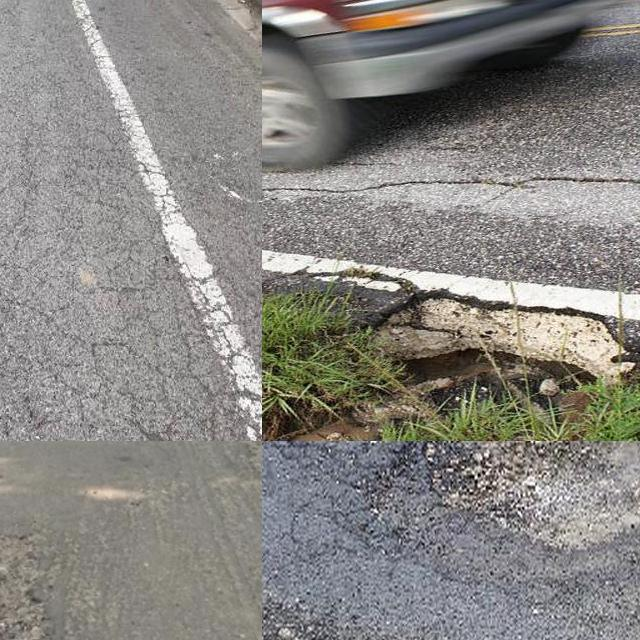Lubang: (384, 441, 640, 567), (0, 534, 56, 640)
Pinggir: (313, 280, 640, 441)
Retak Buaya: (0, 97, 262, 441)
